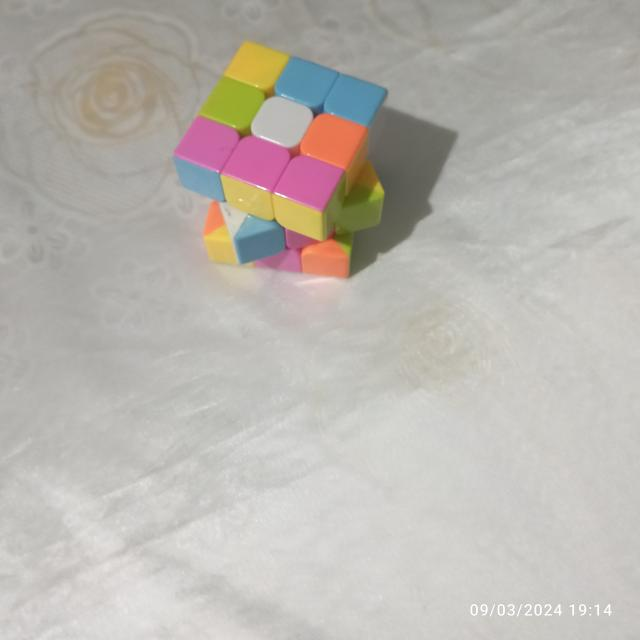Rub: (165, 36, 394, 283)
